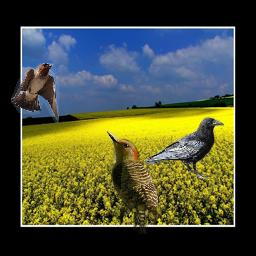Crow: (144, 116, 224, 179)
Swallow: (11, 63, 59, 123)
Woodpecker: (106, 131, 159, 234)
